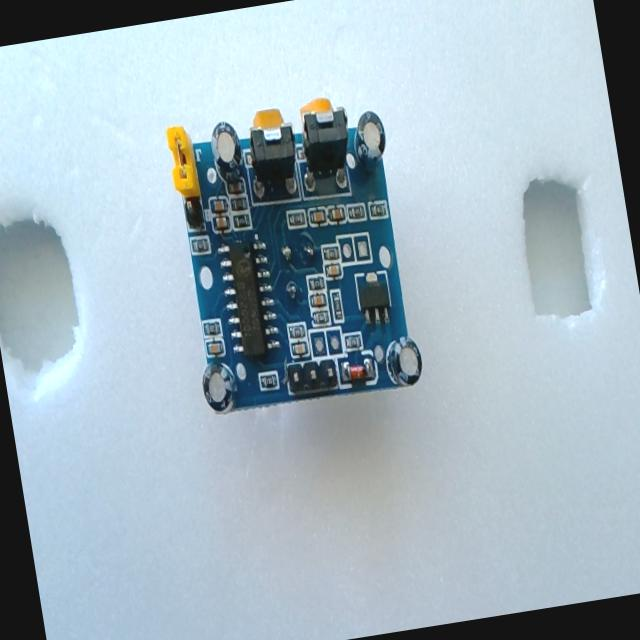Electrolytic capacitor: (350, 108, 390, 172), (198, 358, 241, 417), (383, 332, 426, 390), (208, 119, 246, 181)
IC: (214, 236, 282, 360)
pinheader: (284, 358, 340, 398)
